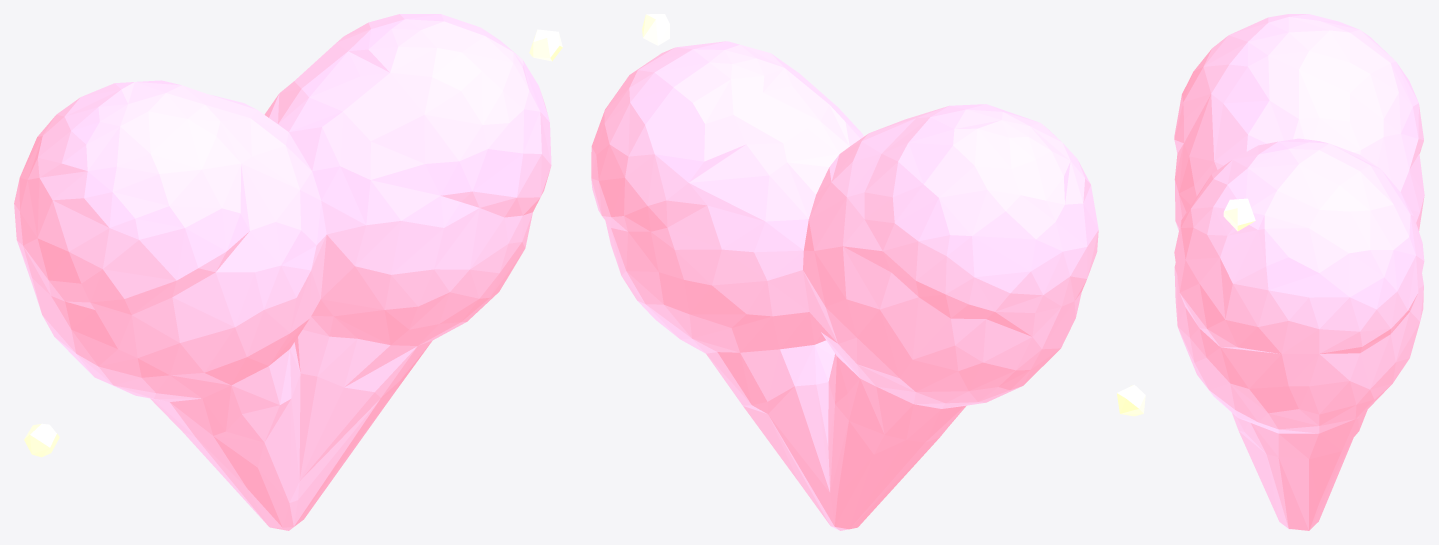
Rendered from pickup_heart.glb.
The picture shows the model from 3 angles, left to right: view 1: azimuth 30°, elevation 25°; view 2: azimuth 150°, elevation 25°; view 3: azimuth 270°, elevation 25°; orthographic projection. The views are drawn at different scales.
Visible parts, largest first — view 1: pickup_heart; view 2: pickup_heart; view 3: pickup_heart.
Part boxes in pixels (bbox=[...]): pickup_heart: bbox=[14, 14, 562, 530]; pickup_heart: bbox=[591, 14, 1145, 530]; pickup_heart: bbox=[1174, 14, 1424, 530].
Bounding box in the file's own units: 0.3948 × 0.3295 × 0.1692.
